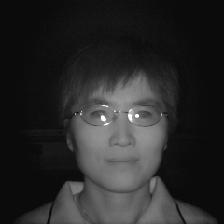normal: (42, 28, 186, 195)
